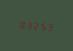five: (39, 20, 45, 31)
three: (46, 20, 52, 32), (25, 19, 31, 30)
two: (32, 19, 38, 31)
zero: (18, 18, 24, 29)
